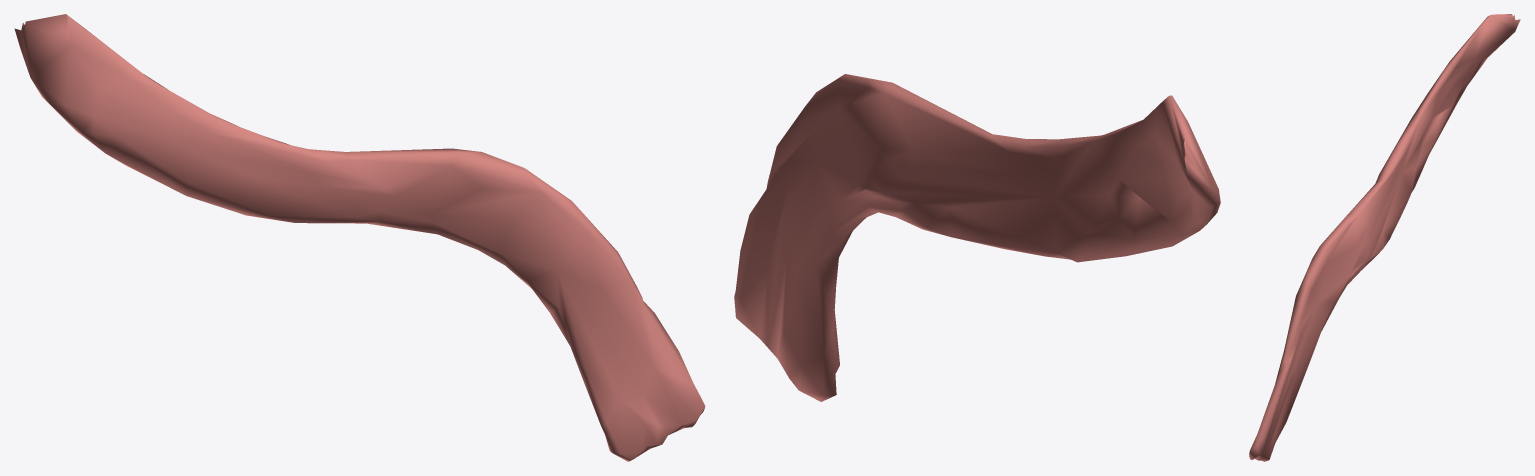
3 views of the same model, side by side, from view 1: azimuth 30°, elevation 25°; view 2: azimuth 150°, elevation 25°; view 3: azimuth 270°, elevation 25° (orthographic). The views are drawn at different scales.
Parts seen in each view (by area): view 1: ZA_bb6361e80ae8522a; view 2: ZA_bb6361e80ae8522a; view 3: ZA_bb6361e80ae8522a.
Part boxes in pixels (x1=…): ZA_bb6361e80ae8522a: x1=14, y1=14, x2=705, y2=461; ZA_bb6361e80ae8522a: x1=734, y1=74, x2=1220, y2=401; ZA_bb6361e80ae8522a: x1=1249, y1=14, x2=1520, y2=461.
Bounding box in the file's own units: 0.0376 × 0.0306 × 0.0246.
